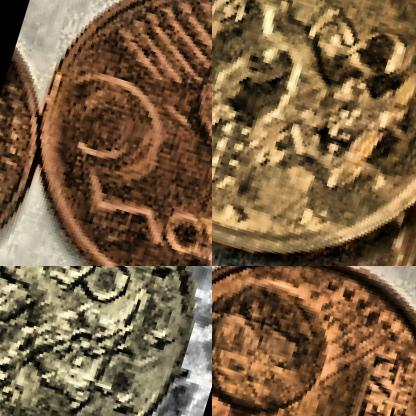coin: (1, 0, 211, 265), (212, 0, 415, 265), (0, 266, 211, 415), (212, 266, 415, 415)
